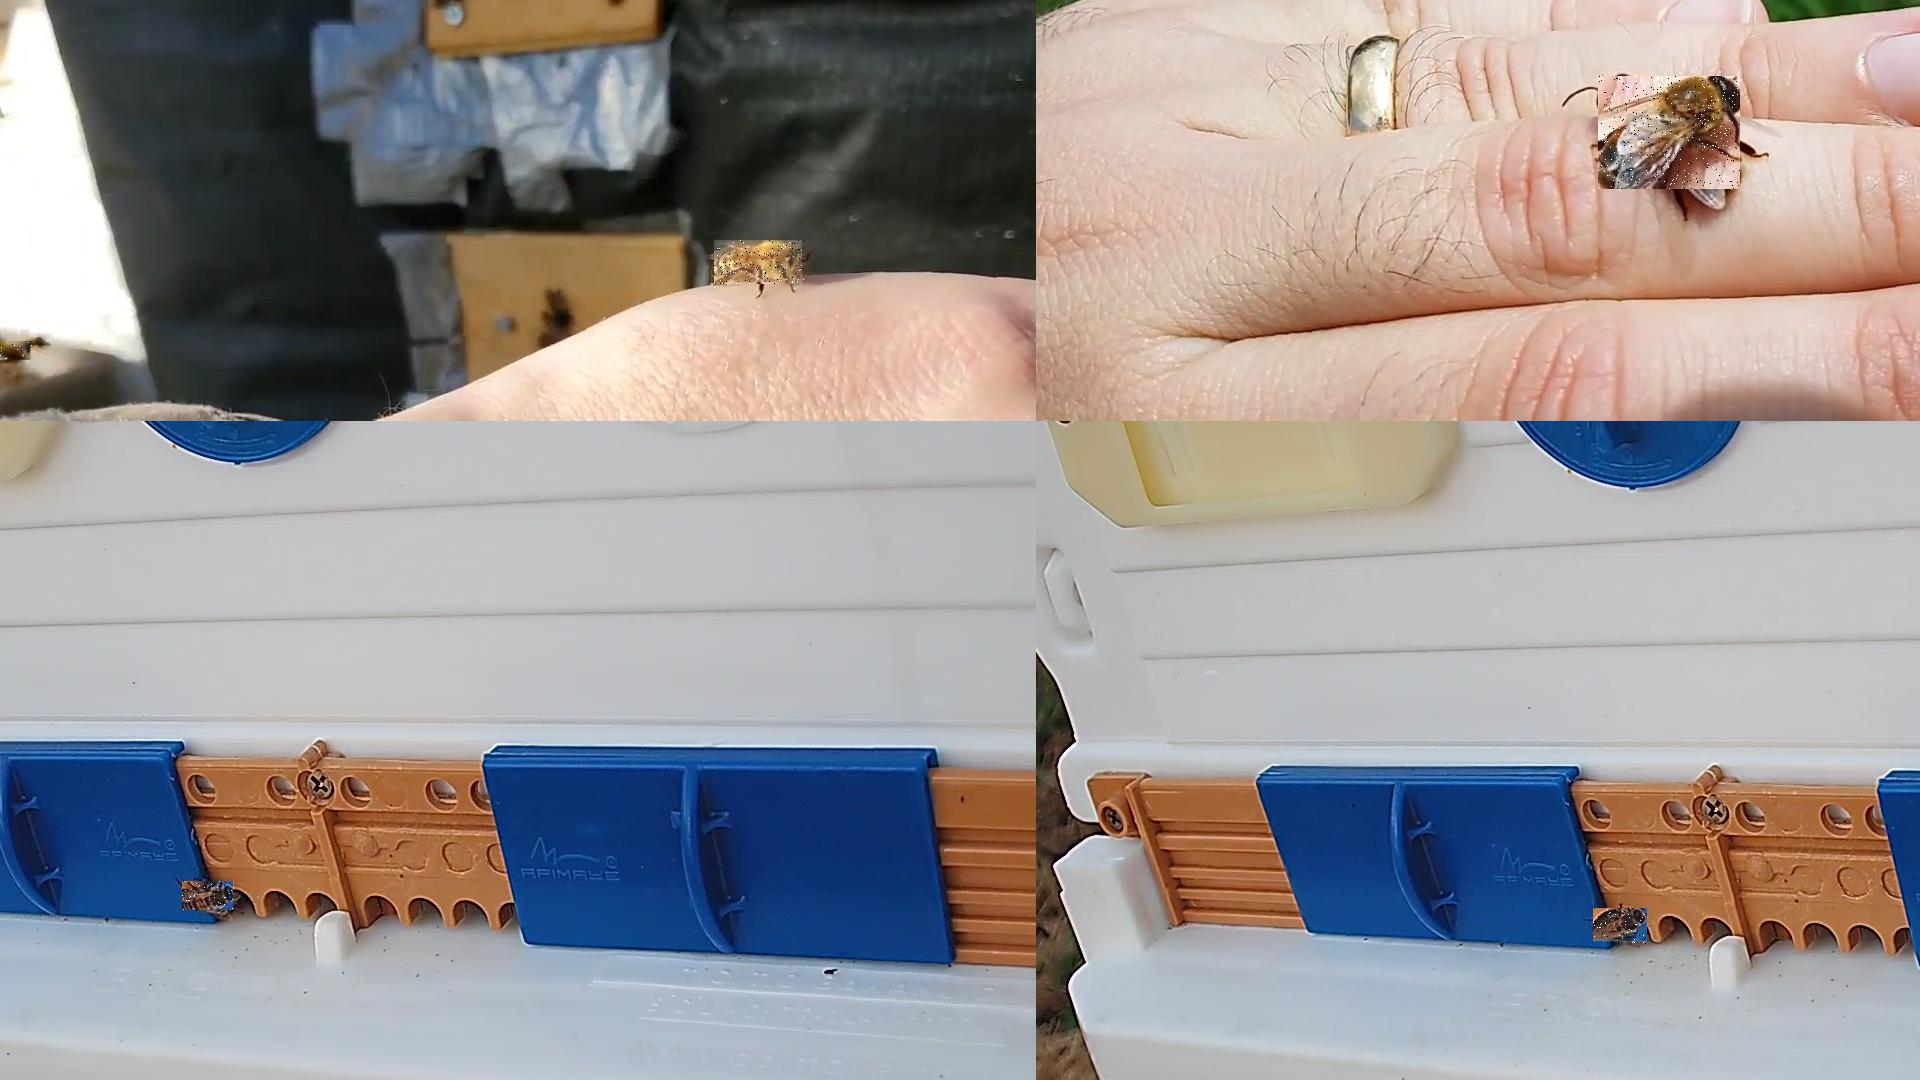bee: (715, 240, 806, 285), (1593, 909, 1648, 945), (183, 881, 237, 911), (0, 342, 36, 363)
drone: (1598, 76, 1741, 190)
